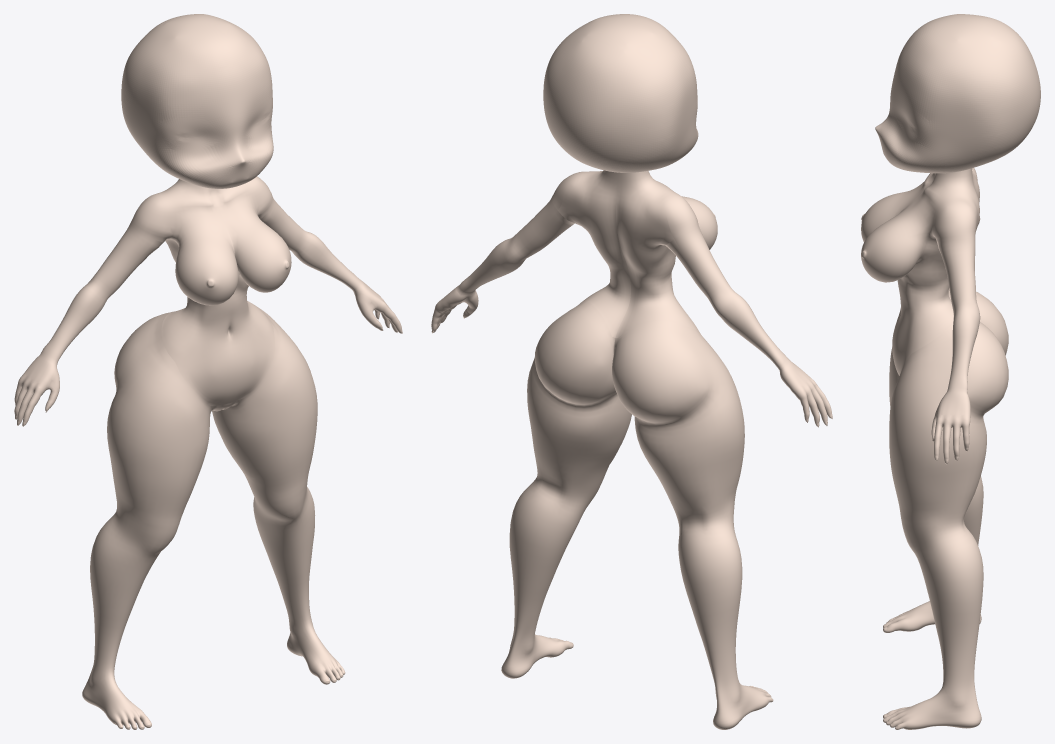
File: Chibi_full.glb
3 renders of one model, left to right at view 1: azimuth 30°, elevation 25°; view 2: azimuth 150°, elevation 25°; view 3: azimuth 270°, elevation 25°, orthographic. The views are drawn at different scales.
Visible parts, largest first — view 1: Chibi_full; view 2: Chibi_full; view 3: Chibi_full.
Boxes of the visible parts, bbox=[...] form: Chibi_full: bbox=[14, 14, 402, 729]; Chibi_full: bbox=[431, 14, 832, 729]; Chibi_full: bbox=[861, 14, 1040, 729].
Size of the model in its own units: 46.64 by 76.78 by 19.1.
